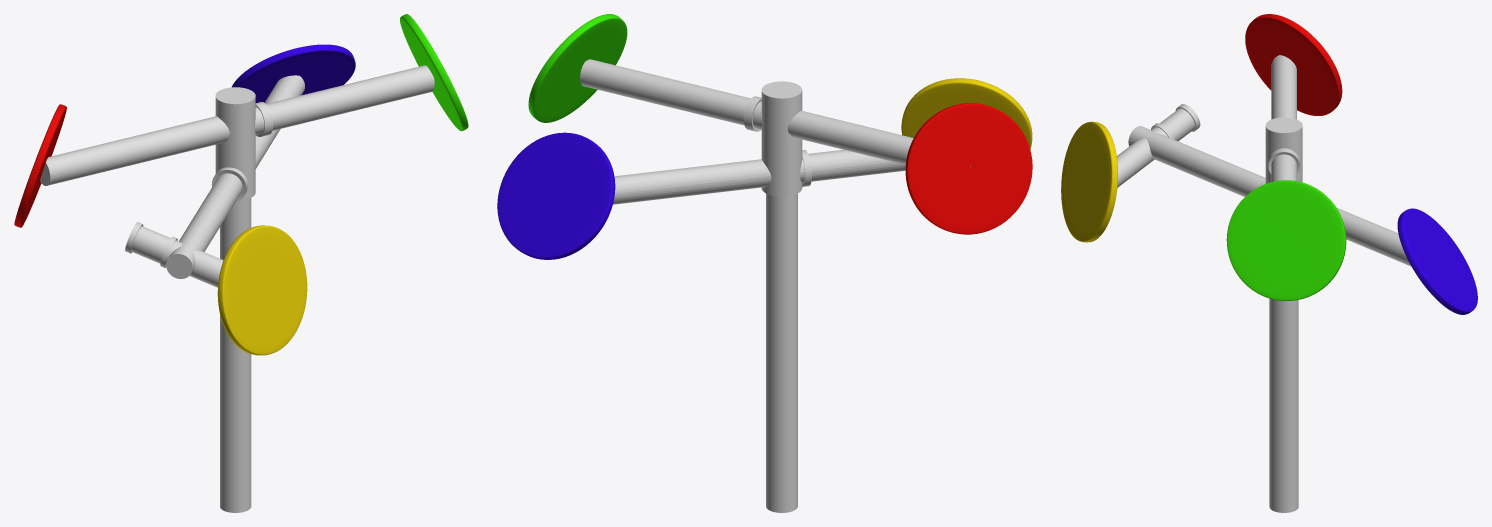
Rendered from ObstractObject.glb.
The picture shows the model from 3 angles, left to right: view 1: azimuth 30°, elevation 25°; view 2: azimuth 150°, elevation 25°; view 3: azimuth 270°, elevation 25°; orthographic projection. The views are drawn at different scales.
Visible parts, largest first — view 1: Cylinder.001, Cylinder, Cylinder.008, Cylinder.007, Cylinder.002, Cylinder.006, Cylinder.004, Cylinder.003, Cylinder.005; view 2: Cylinder, Cylinder.005, Cylinder.007, Cylinder.001, Cylinder.002, Cylinder.006, Cylinder.008, Cylinder.003; view 3: Cylinder.006, Cylinder, Cylinder.005, Cylinder.008, Cylinder.007, Cylinder.002, Cylinder.001, Cylinder.003, Cylinder.004.
Boxes of the visible parts, x1,y1,x2,y2 form: Cylinder.001: (40, 65, 434, 185); Cylinder: (215, 87, 255, 512); Cylinder.008: (217, 225, 307, 355); Cylinder.007: (232, 44, 355, 102); Cylinder.002: (169, 75, 304, 271); Cylinder.006: (400, 14, 468, 131); Cylinder.004: (125, 222, 223, 287); Cylinder.003: (166, 75, 304, 278); Cylinder.005: (14, 104, 66, 227); Cylinder: (761, 81, 802, 512); Cylinder.005: (905, 103, 1032, 234); Cylinder.007: (497, 132, 615, 259); Cylinder.001: (580, 59, 970, 168); Cylinder.002: (613, 149, 905, 204); Cylinder.006: (528, 14, 627, 122); Cylinder.008: (901, 78, 1032, 149); Cylinder.003: (613, 150, 905, 203); Cylinder.006: (1226, 180, 1346, 300); Cylinder: (1265, 117, 1302, 512); Cylinder.005: (1245, 14, 1342, 115); Cylinder.008: (1061, 121, 1117, 242); Cylinder.007: (1397, 208, 1477, 314); Cylinder.002: (1128, 126, 1411, 266); Cylinder.001: (1268, 55, 1299, 181); Cylinder.003: (1128, 126, 1409, 265); Cylinder.004: (1116, 104, 1200, 187).
Bounding box in the file's own units: 8.76 × 8.05 × 7.44.
